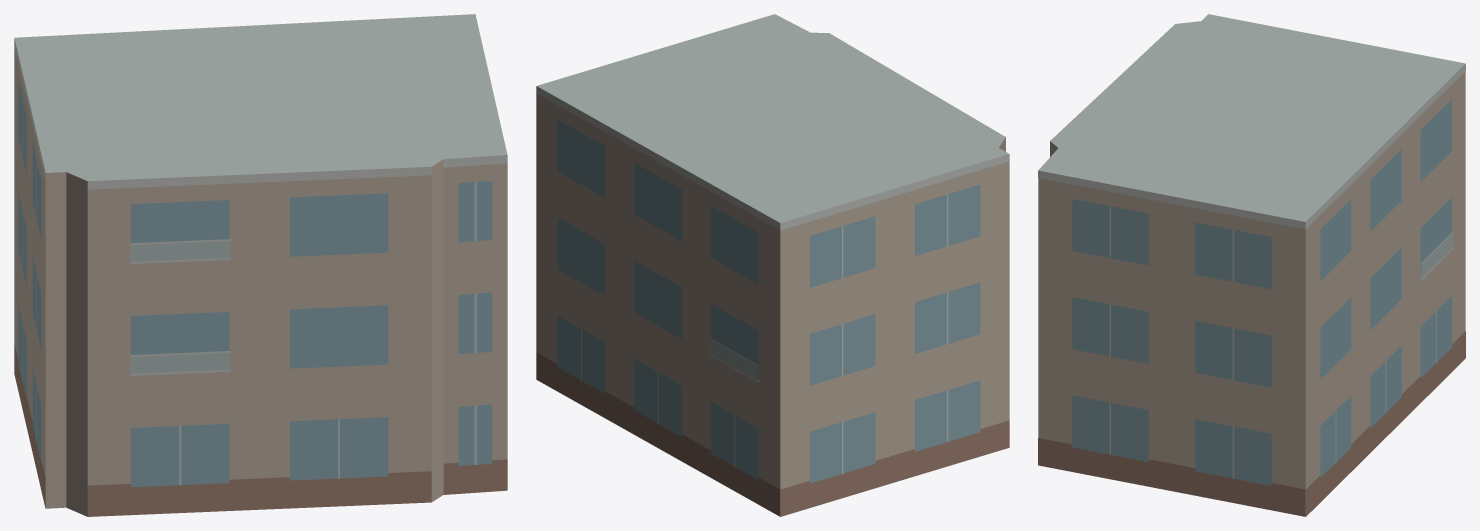
Rendered from survey-upis-32868095.glb.
3 renders of one model, left to right at view 1: azimuth 30°, elevation 25°; view 2: azimuth 150°, elevation 25°; view 3: azimuth 270°, elevation 25°, orthographic. The views are drawn at different scales.
Visible parts, largest first — view 1: survey-upis-32868095.tmp; view 2: survey-upis-32868095.tmp; view 3: survey-upis-32868095.tmp.
Part boxes in pixels (x1,y1,x2,y2): survey-upis-32868095.tmp: (14,14,507,516); survey-upis-32868095.tmp: (536,14,1009,516); survey-upis-32868095.tmp: (1038,14,1465,516).
Bounding box in the file's own units: 14.69 × 9.7 × 12.76.
